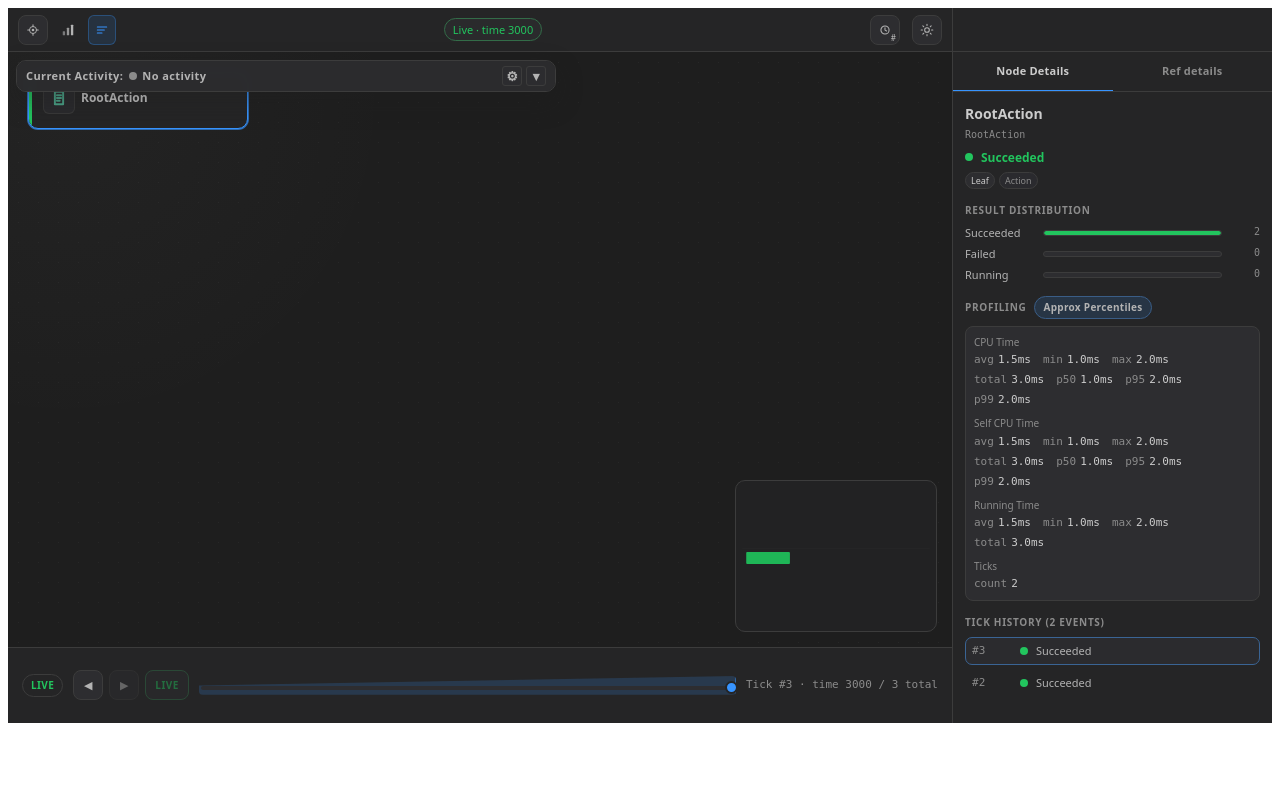
Test: BehaviourTreeDebugger time-travel percentile mode › switches performance percentiles from sampled to exact when pausing
What coordinates should you click on to do the following:
click the button named "Switch to performance view"
I would click on:
 (68, 30)
Its box is [54,16,82,44].
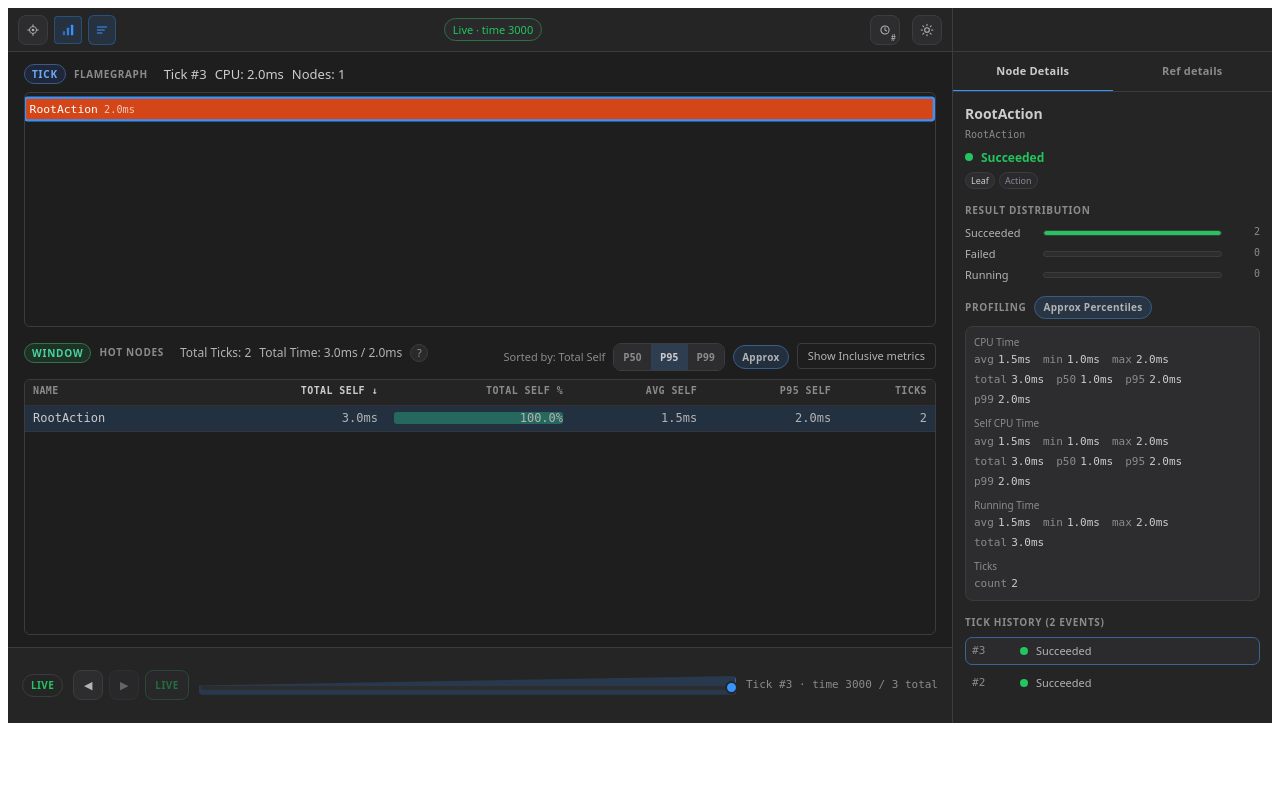
Check: the text "Approx" is shown, box [733,345,789,369]
What coordinates should you click on to do the following:
click the button "◀"
I would click on:
 (88, 685)
Its box is [73,670,103,700].
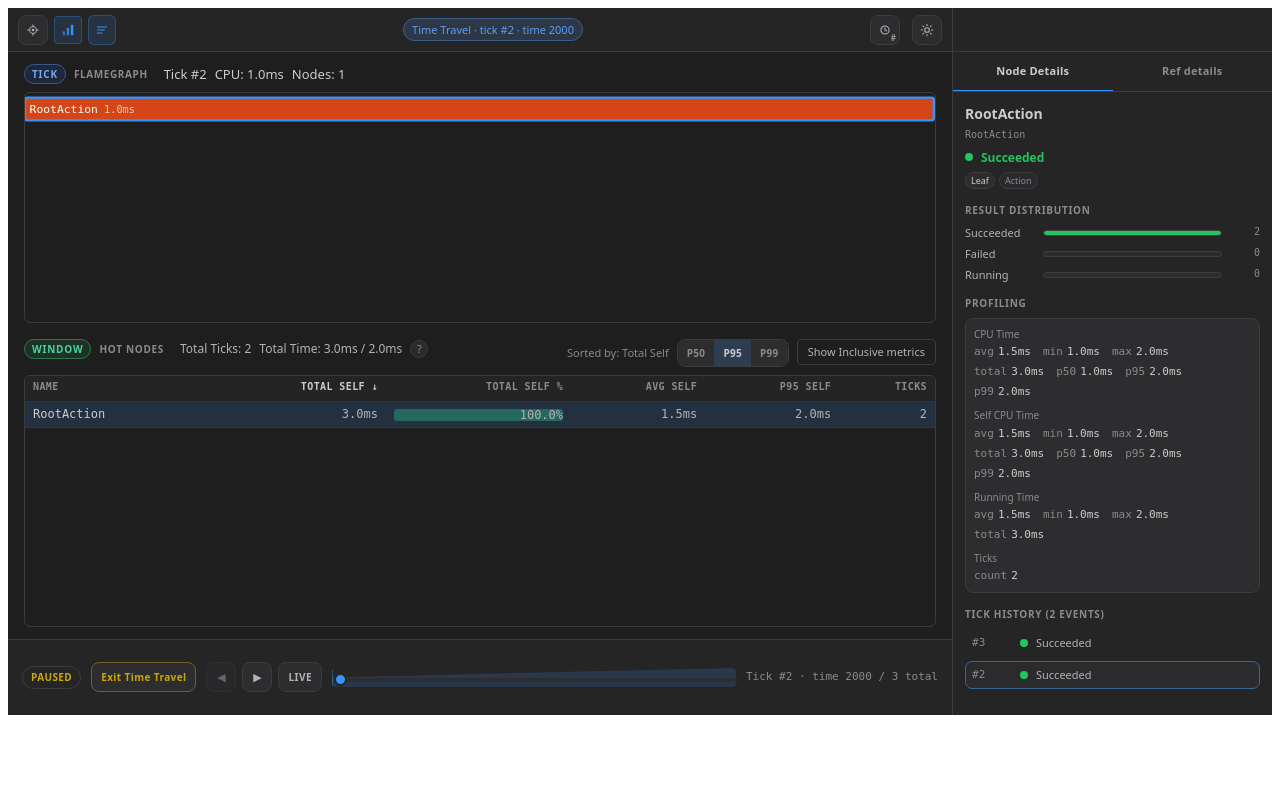
Check: the text "Approx" is gone
